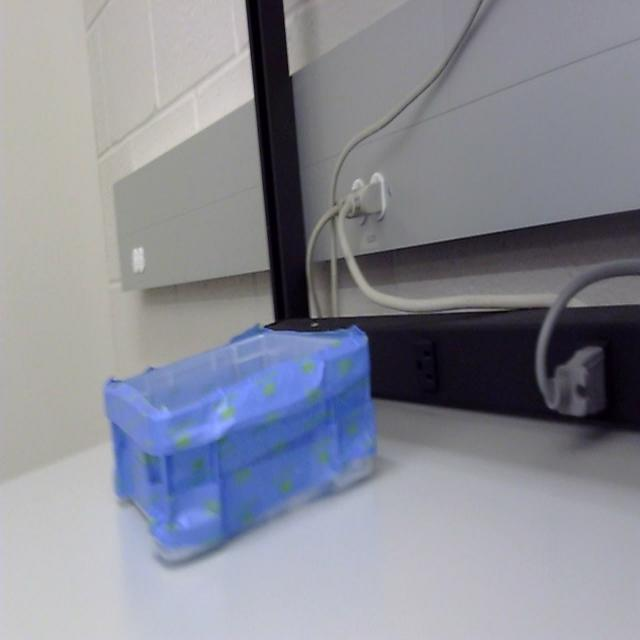bucket: (102, 326, 378, 570)
